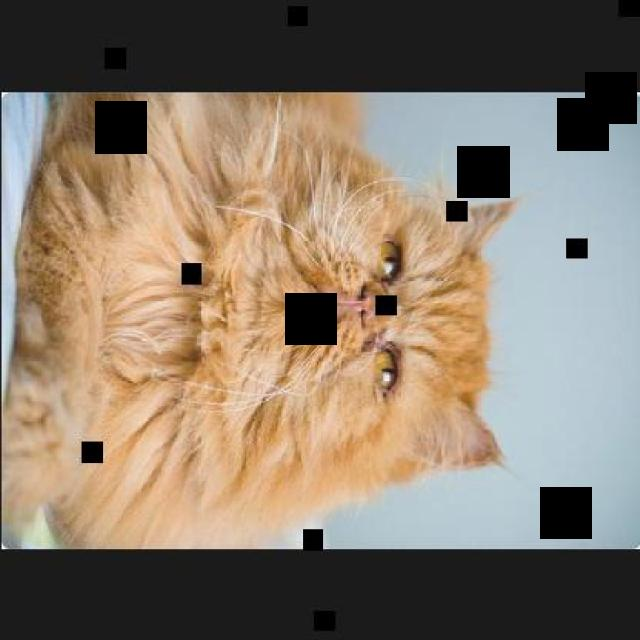unauthorized: (0, 90, 518, 549)
